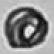correct: (2, 6, 51, 51)
